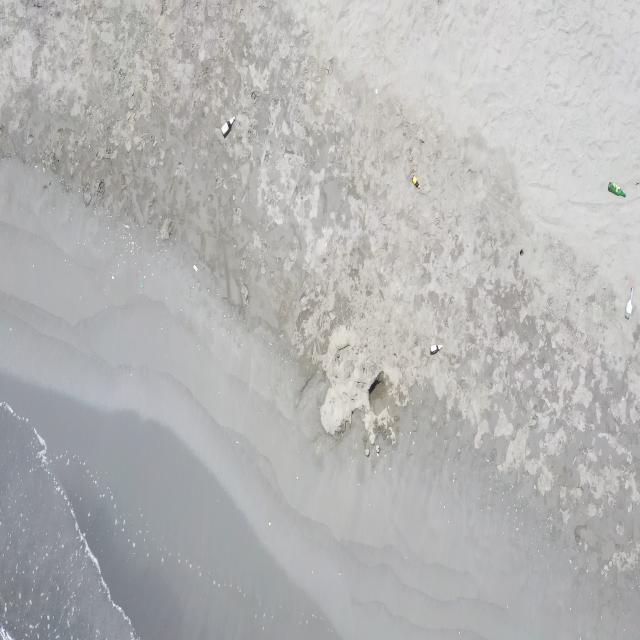glass: (624, 285, 635, 319), (608, 181, 627, 198), (222, 115, 236, 137), (429, 344, 443, 356), (412, 174, 421, 190)
